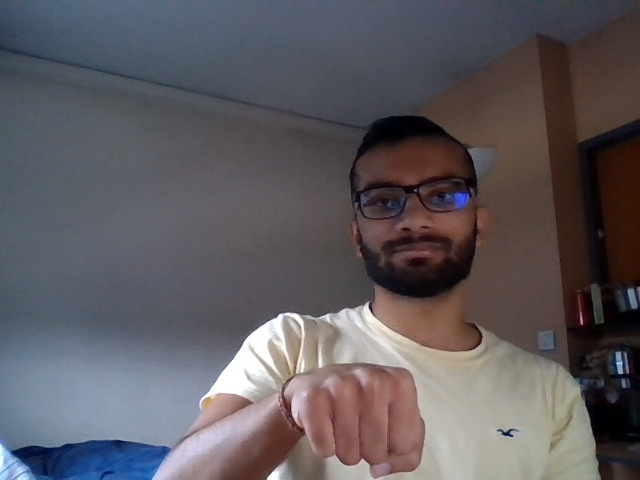Yes: (273, 350, 433, 479)
